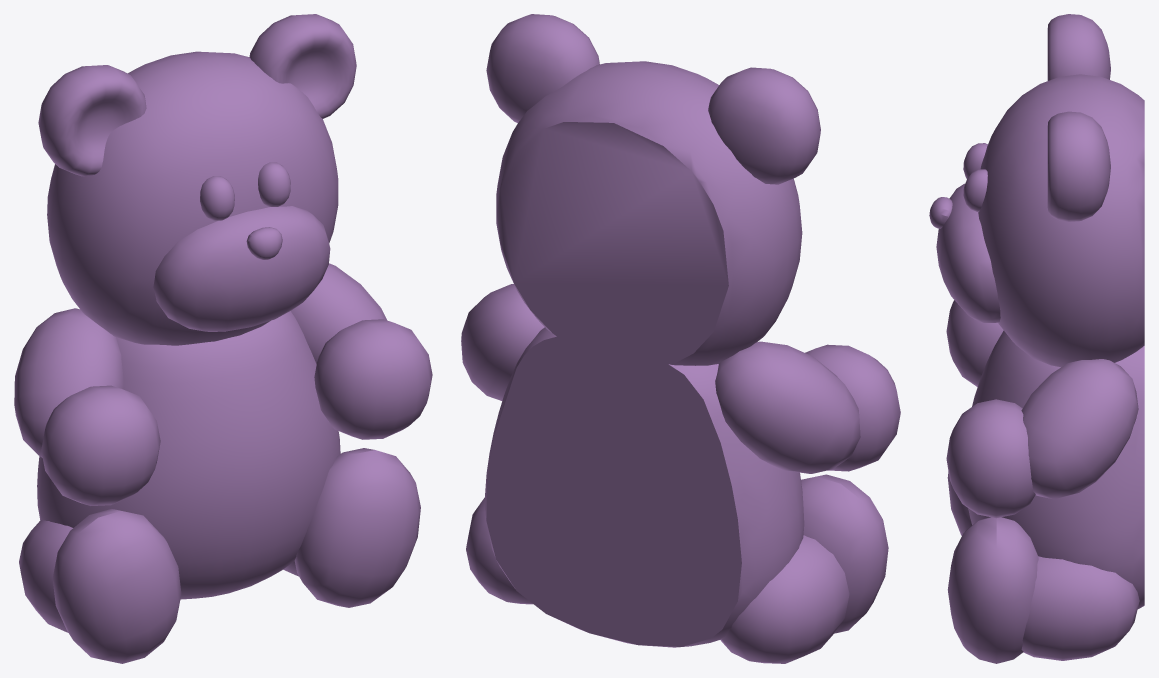
Rendered from bear.glb.
The picture shows the model from 3 angles, left to right: view 1: azimuth 30°, elevation 25°; view 2: azimuth 150°, elevation 25°; view 3: azimuth 270°, elevation 25°; orthographic projection. The views are drawn at different scales.
Visible parts, largest first — view 1: bear_body; view 2: bear_body; view 3: bear_body.
Part boxes in pixels (box(x1,y1,x2,y2)): bear_body: box(14, 14, 432, 663); bear_body: box(461, 14, 900, 663); bear_body: box(929, 14, 1144, 663).
Bounding box in the file's own units: 11.6 × 16.4 × 5.96.
